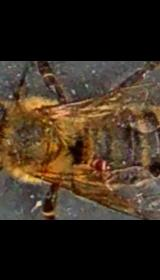varroa_mite: (89, 150, 113, 182)
